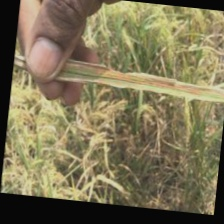Leaf_Blast: (60, 62, 224, 109)
